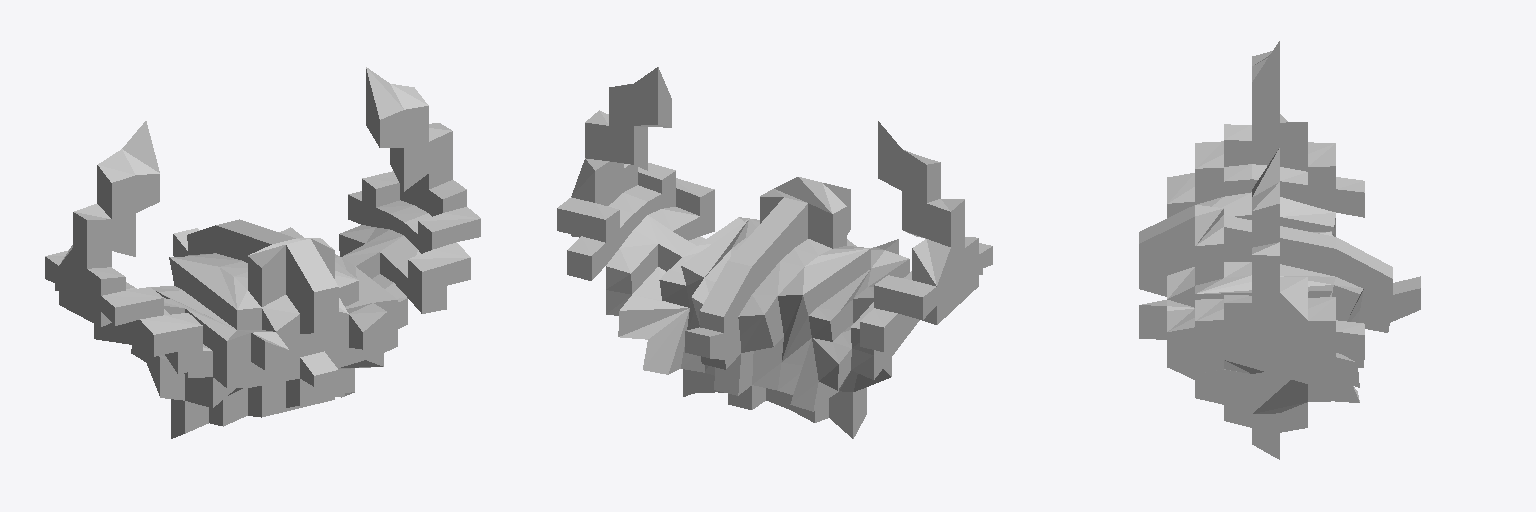
File: Bot_Runner_LOD0-3.obj
3 renders of one model, left to right at view 1: azimuth 30°, elevation 25°; view 2: azimuth 150°, elevation 25°; view 3: azimuth 270°, elevation 25°, orthographic.
Parts seen in each view (by area): view 1: Bot_Runner_LOD0-3; view 2: Bot_Runner_LOD0-3; view 3: Bot_Runner_LOD0-3.
Part boxes in pixels (x1,y1,x2,y2): Bot_Runner_LOD0-3: (45,67,480,438); Bot_Runner_LOD0-3: (557,67,992,438); Bot_Runner_LOD0-3: (1139,41,1420,459).
Bounding box in the file's own units: 1.5 × 1.27 × 1.